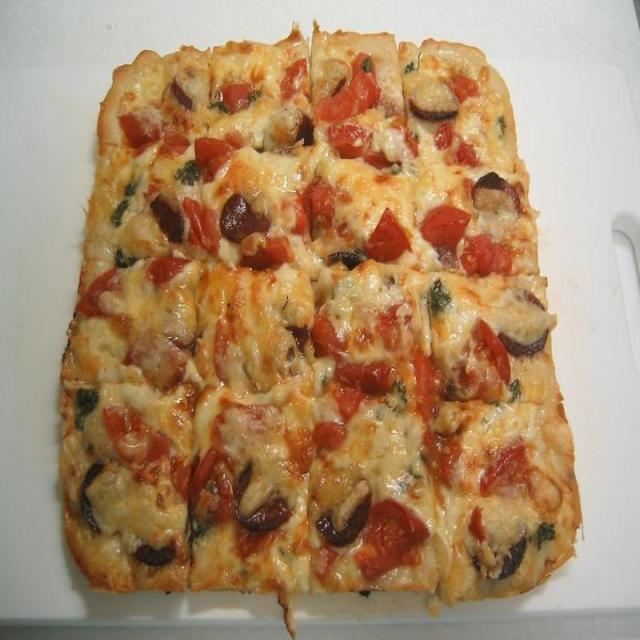Pizza: (55, 33, 586, 601)
